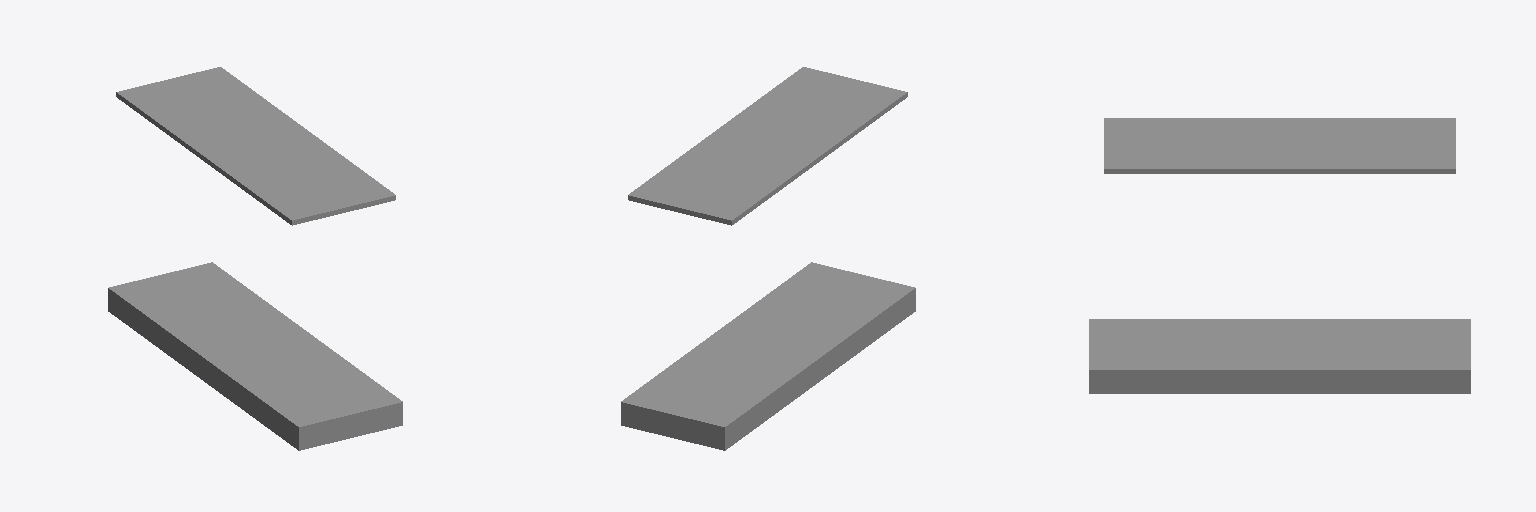
The model's file is ospol.obj.
3 views of the same model, side by side, from view 1: azimuth 30°, elevation 25°; view 2: azimuth 150°, elevation 25°; view 3: azimuth 270°, elevation 25° (orthographic).
Visible parts, largest first — view 1: Cube.001; view 2: Cube.001; view 3: Cube.001.
Part boxes in pixels (bbox=[...]): Cube.001: bbox=[108, 67, 402, 450]; Cube.001: bbox=[621, 67, 915, 450]; Cube.001: bbox=[1089, 118, 1470, 393].
Bounding box in the file's own units: 0.5594 × 1.14 × 1.76.